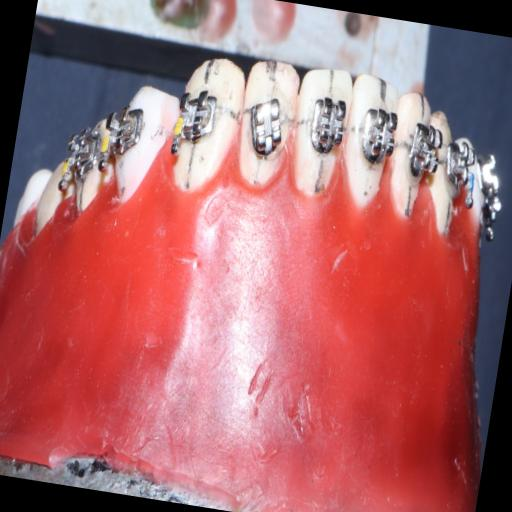correct_brace: (302, 90, 354, 161), (352, 102, 402, 167)
incorrect_brace: (227, 48, 305, 198), (238, 89, 298, 163)
